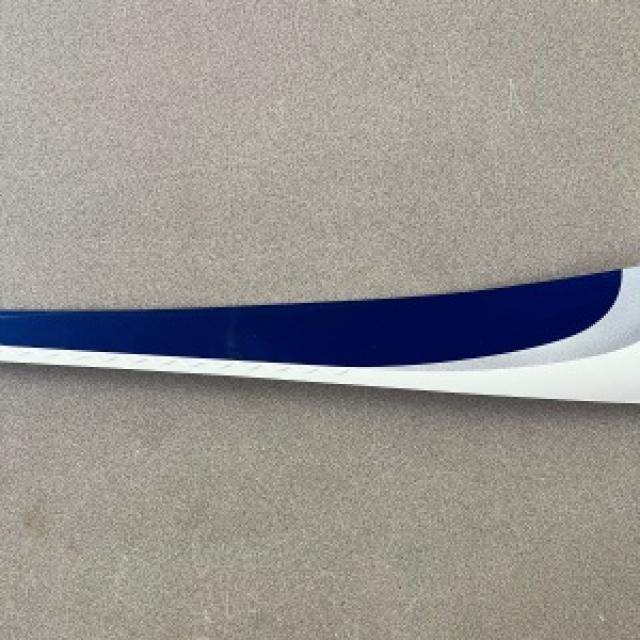healthy: (0, 0, 638, 305), (0, 267, 638, 401)
